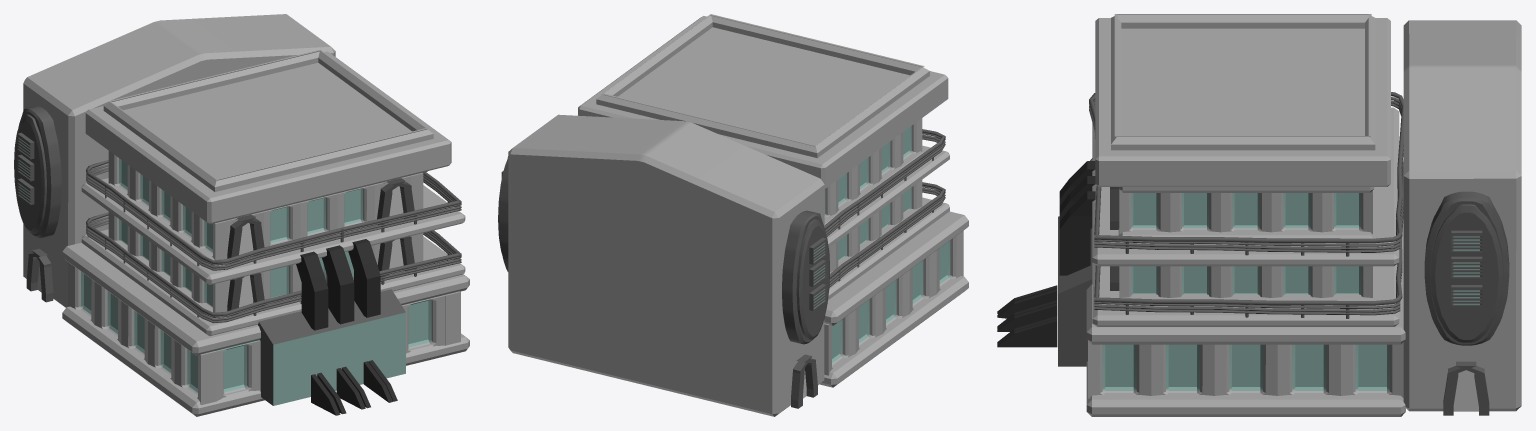
File: Apartment building combined.fbx
The picture shows the model from 3 angles, left to right: view 1: azimuth 30°, elevation 25°; view 2: azimuth 150°, elevation 25°; view 3: azimuth 270°, elevation 25°; orthographic projection. The views are drawn at different scales.
Visible parts, largest first — view 1: polySurface4463; view 2: polySurface4463; view 3: polySurface4463.
Part boxes in pixels (x1,y1,x2,y2): polySurface4463: (14,14,469,416); polySurface4463: (498,14,968,416); polySurface4463: (997,14,1521,416).
Size of the model in its own units: 201 by 144 by 249.
